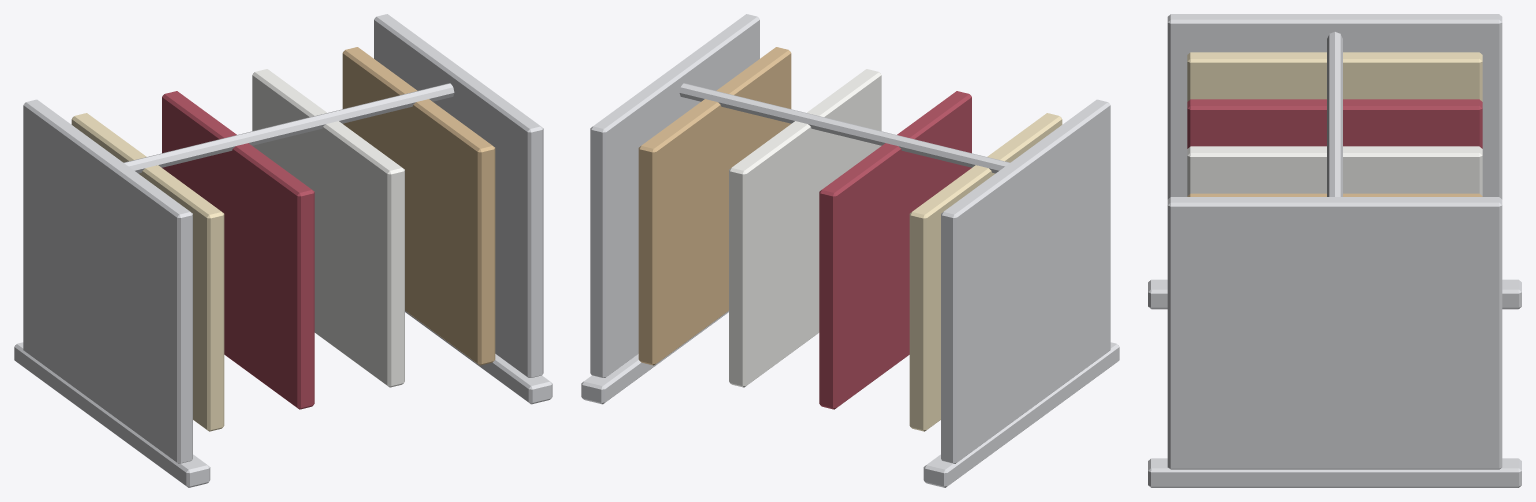
File: butchers-shop-and-deli-counter-chopping-board-stack-c0b3e7ff__34452.glb
3 renders of one model, left to right at view 1: azimuth 30°, elevation 25°; view 2: azimuth 150°, elevation 25°; view 3: azimuth 270°, elevation 25°, orthographic. The views are drawn at different scales.
Parts seen in each view (by area): view 1: chopping-board-stack; view 2: chopping-board-stack; view 3: chopping-board-stack.
Part boxes in pixels (x1,y1,x2,y2): chopping-board-stack: [14, 14, 552, 487]; chopping-board-stack: [581, 14, 1119, 487]; chopping-board-stack: [1148, 14, 1521, 487].
Size of the model in its own units: 0.46 by 0.32 by 0.38.
